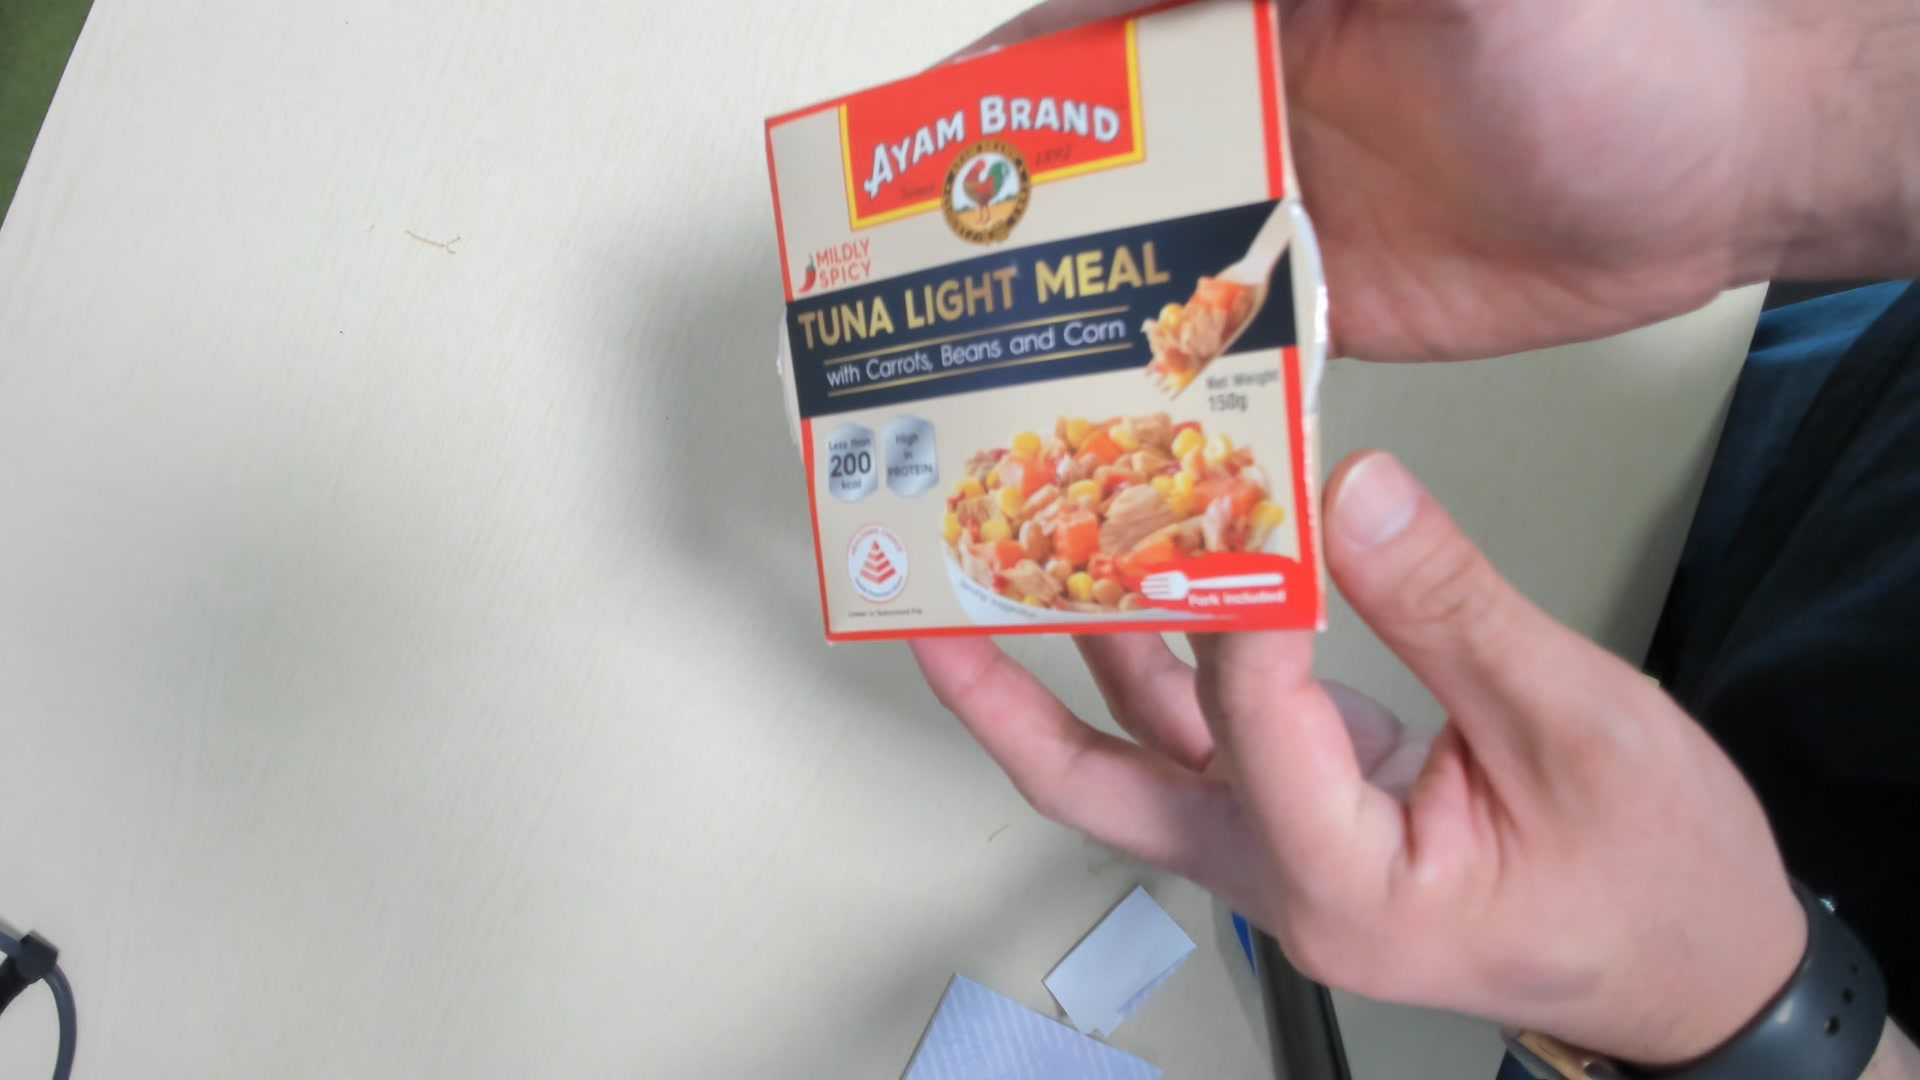InstantMeals_100-199g_NonHalal_Healthy: (766, 18, 1329, 644)
